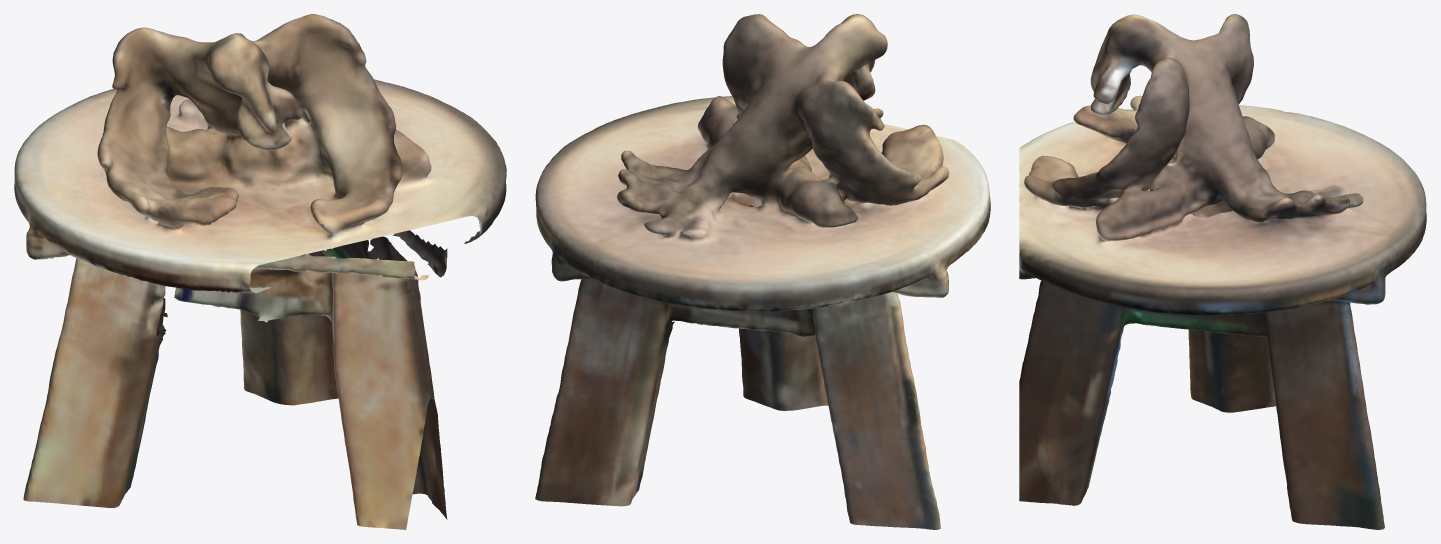
The model's file is corbeau.glb.
3 views of the same model, side by side, from view 1: azimuth 30°, elevation 25°; view 2: azimuth 150°, elevation 25°; view 3: azimuth 270°, elevation 25° (orthographic). The views are drawn at different scales.
Parts seen in each view (by area): view 1: Model; view 2: Model; view 3: Model.
Part boxes in pixels (x1,y1,x2,y2): Model: (14, 14, 506, 529); Model: (535, 14, 990, 529); Model: (1019, 14, 1426, 529).
Bounding box in the file's own units: 1.17 × 1.22 × 1.07.
Materials: 1 (1 with a texture image).
